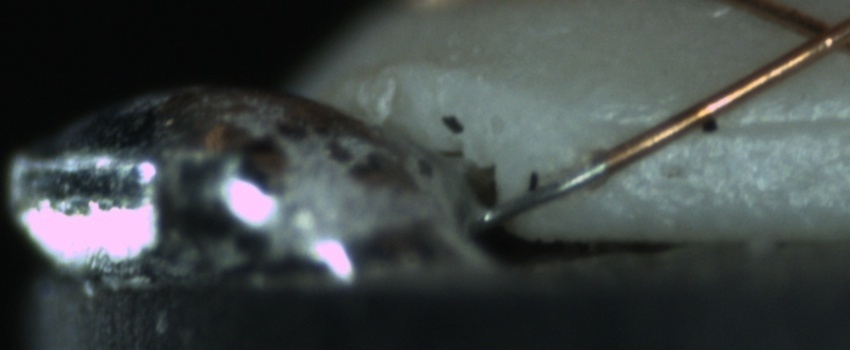CL: (781, 2, 849, 65)
DL: (621, 86, 847, 160)
TS: (481, 158, 608, 224)
